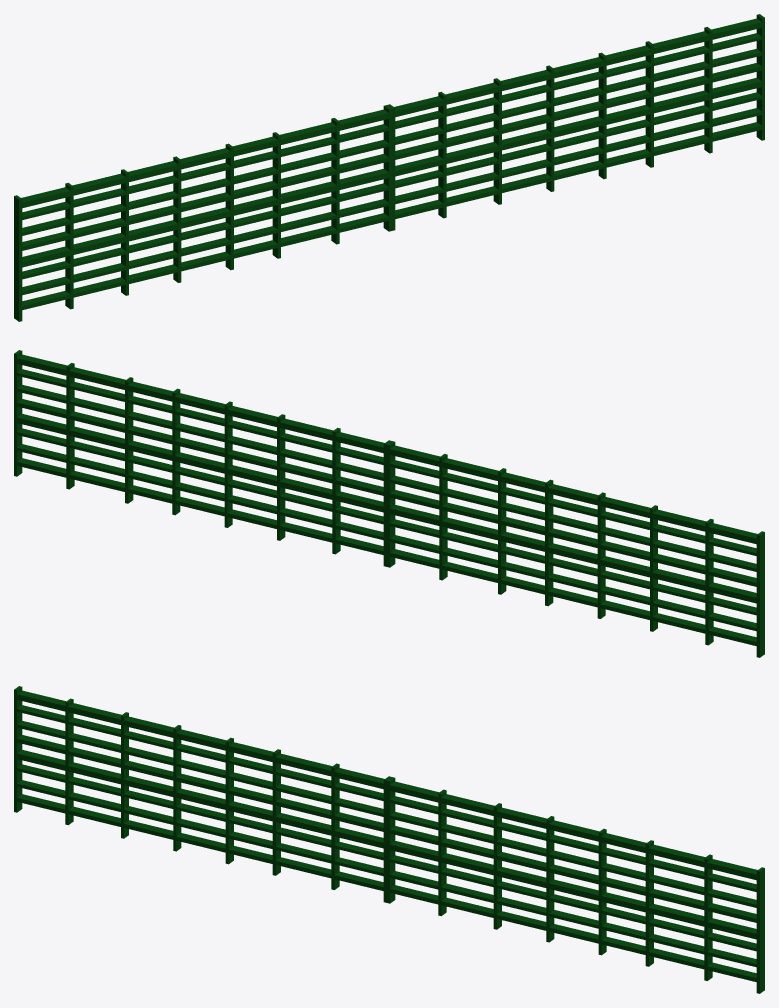
Rendered from plane.006_lev3.glb.
3 renders of one model, top to bottom at view 1: azimuth 30°, elevation 25°; view 2: azimuth 150°, elevation 25°; view 3: azimuth 330°, elevation 25°, orthographic.
Parts seen in each view (by area): view 1: plane.006_lev3; view 2: plane.006_lev3; view 3: plane.006_lev3.
Boxes of the visible parts, box(x1,y1,x2,y2) form: plane.006_lev3: box(14, 14, 764, 321); plane.006_lev3: box(14, 350, 764, 657); plane.006_lev3: box(14, 686, 764, 993).
Size of the model in its own units: 4.83 by 0.756 by 0.0571.
